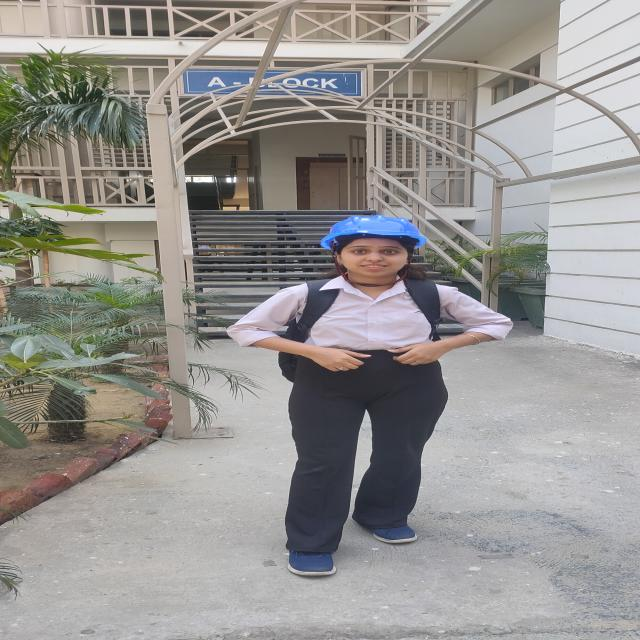no jacket: (228, 217, 511, 575)
